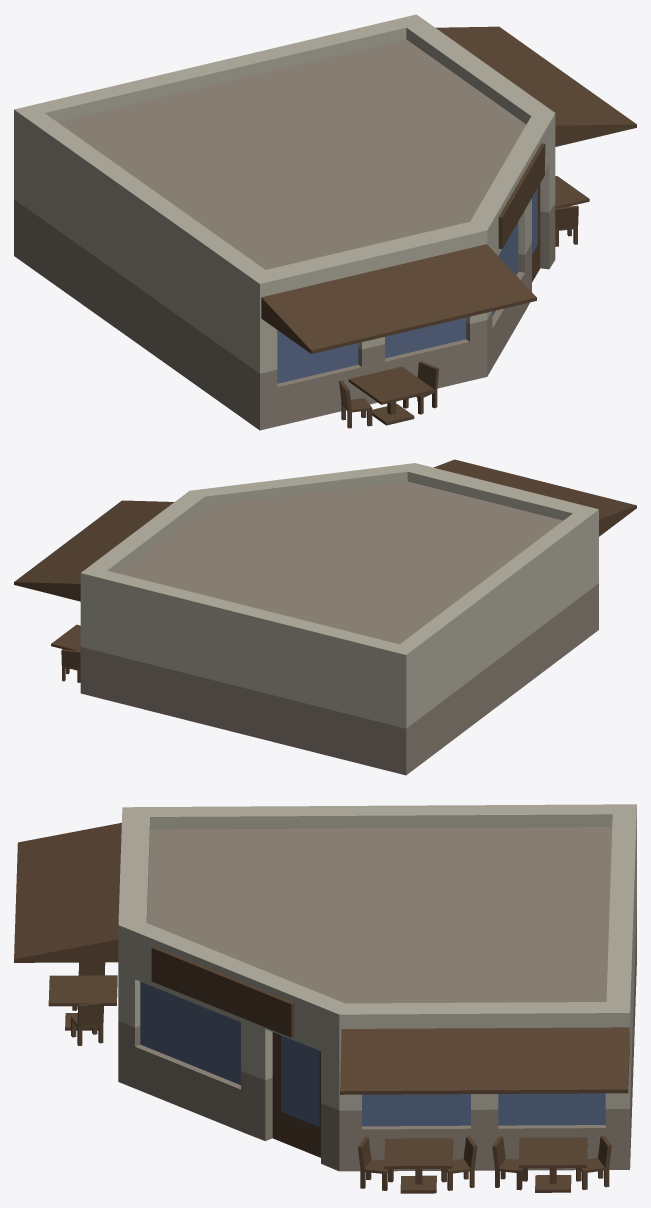
The model's file is CoffeeShop_v2.fbx.
The picture shows the model from 3 angles, top to bottom: view 1: azimuth 30°, elevation 25°; view 2: azimuth 150°, elevation 25°; view 3: azimuth 270°, elevation 25°; orthographic projection. The views are drawn at different scales.
Visible parts, largest first — view 1: CoffeeShop_v2; view 2: CoffeeShop_v2; view 3: CoffeeShop_v2.
Boxes of the visible parts, x1,y1,x2,y2 form: CoffeeShop_v2: [14, 14, 636, 430]; CoffeeShop_v2: [14, 459, 636, 775]; CoffeeShop_v2: [14, 804, 636, 1193].
Bounding box in the file's own units: 1364 × 394 × 1419.
